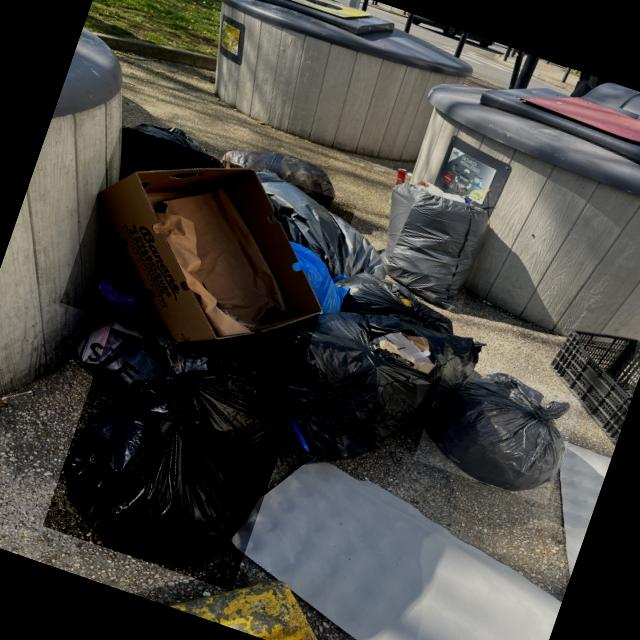Garbage bag: (63, 371, 289, 567), (426, 374, 570, 492), (380, 182, 488, 309)
Other Carton: (97, 168, 320, 343)
